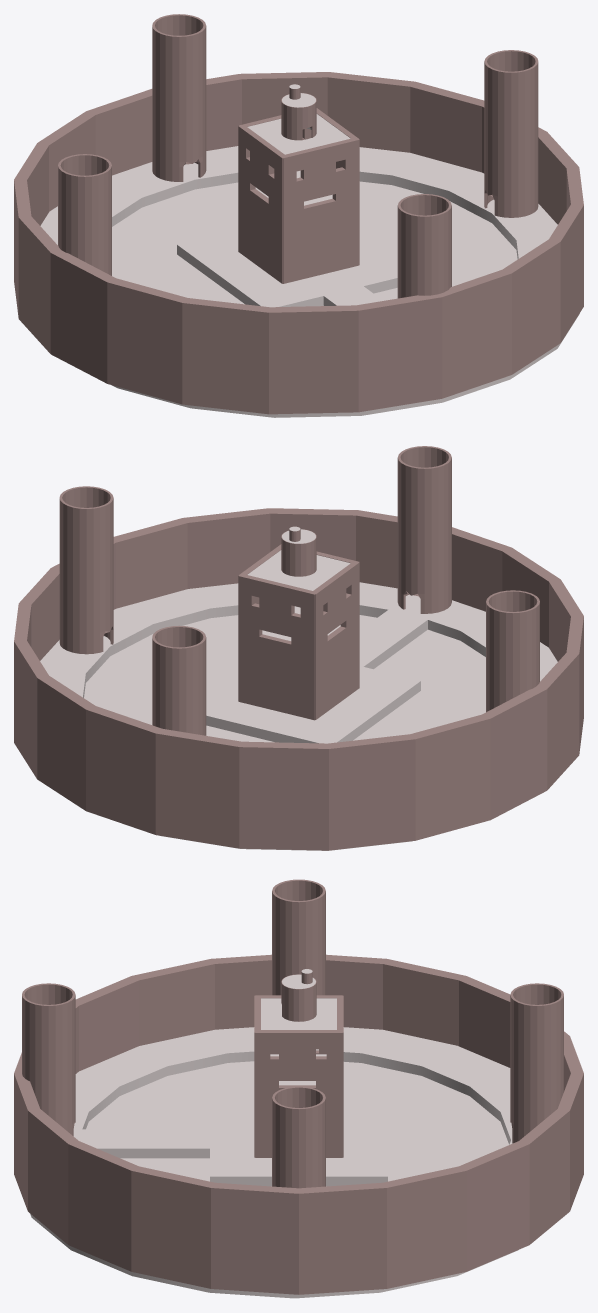
Rendered from Asset_LevelDesign_02.fbx.
The picture shows the model from 3 angles, top to bottom: view 1: azimuth 30°, elevation 25°; view 2: azimuth 150°, elevation 25°; view 3: azimuth 270°, elevation 25°; orthographic projection.
Parts seen in each view (by area): view 1: Bowl_01, chemin_tour, mur_tour_centre_fenetres_05, mini_tour_02, mini_tour_03, sol_tour_centrale_01, mur_tour_centre_fenetres_04, mini_tour_04, mini_tour_01, plafond_tour_centre, Tour_cylindre_centre_01, chemin_02; view 2: Bowl_01, chemin_tour, mur_tour_centre_fenetres_03, mini_tour_02, mini_tour_01, sol_tour_centrale_01, mur_tour_centre_fenetres_04, mini_tour_04, mini_tour_03, chemin_02, plafond_tour_centre, Tour_cylindre_centre_01; view 3: Bowl_01, chemin_tour, sol_tour_centrale_01, mini_tour_03, mur_tour_centre_porte_01, mini_tour_01, mini_tour_04, mini_tour_02, chemin_02, plafond_tour_centre, Tour_cylindre_centre_01.
Boxes of the visible parts, x1,y1,x2,y2 form: Bowl_01: (14, 72, 583, 414); chemin_tour: (40, 146, 579, 417); mur_tour_centre_fenetres_05: (280, 138, 359, 283); mini_tour_02: (484, 50, 538, 217); mini_tour_03: (152, 14, 206, 181); sol_tour_centrale_01: (177, 227, 397, 307); mur_tour_centre_fenetres_04: (238, 124, 287, 283); mini_tour_04: (58, 154, 111, 275); mini_tour_01: (397, 194, 451, 298); plafond_tour_centre: (247, 114, 350, 154); Tour_cylindre_centre_01: (281, 93, 316, 140); chemin_02: (321, 284, 383, 305); Bowl_01: (14, 508, 583, 850); chemin_tour: (40, 582, 557, 850); mur_tour_centre_fenetres_03: (238, 574, 314, 720); mini_tour_02: (59, 486, 113, 654); mini_tour_01: (397, 446, 451, 613); sol_tour_centrale_01: (206, 664, 420, 743); mur_tour_centre_fenetres_04: (310, 561, 359, 719); mini_tour_04: (486, 590, 539, 712); mini_tour_03: (152, 625, 206, 735); chemin_02: (359, 609, 428, 669); plafond_tour_centre: (247, 550, 350, 590); Tour_cylindre_centre_01: (281, 529, 316, 576); Bowl_01: (14, 954, 583, 1294); chemin_tour: (30, 1027, 518, 1298); sol_tour_centrale_01: (210, 1101, 387, 1186); mini_tour_03: (510, 983, 563, 1143); mur_tour_centre_porte_01: (255, 1030, 342, 1157); mini_tour_01: (22, 983, 75, 1135); mini_tour_04: (272, 879, 325, 995); mini_tour_02: (272, 1086, 325, 1188); chemin_02: (78, 1129, 215, 1158); plafond_tour_centre: (261, 998, 336, 1029); Tour_cylindre_centre_01: (281, 974, 316, 1021).
Size of the model in its own units: 42340 by 17137 by 42340.
